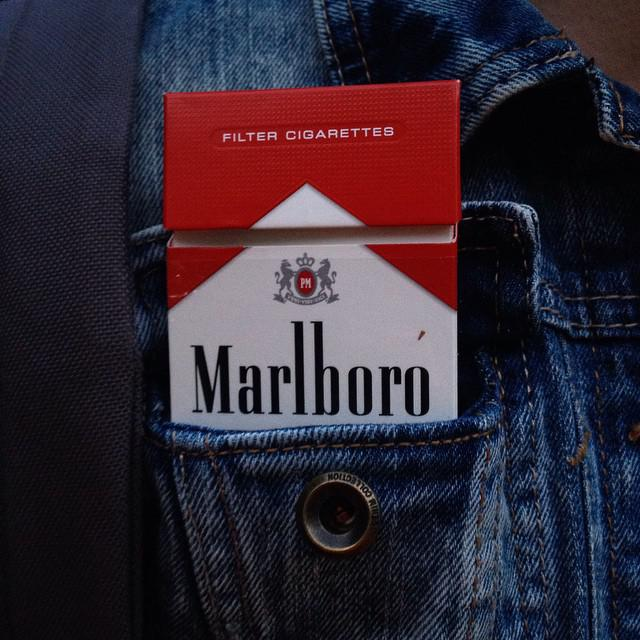marlboro_red: (167, 93, 455, 420)
